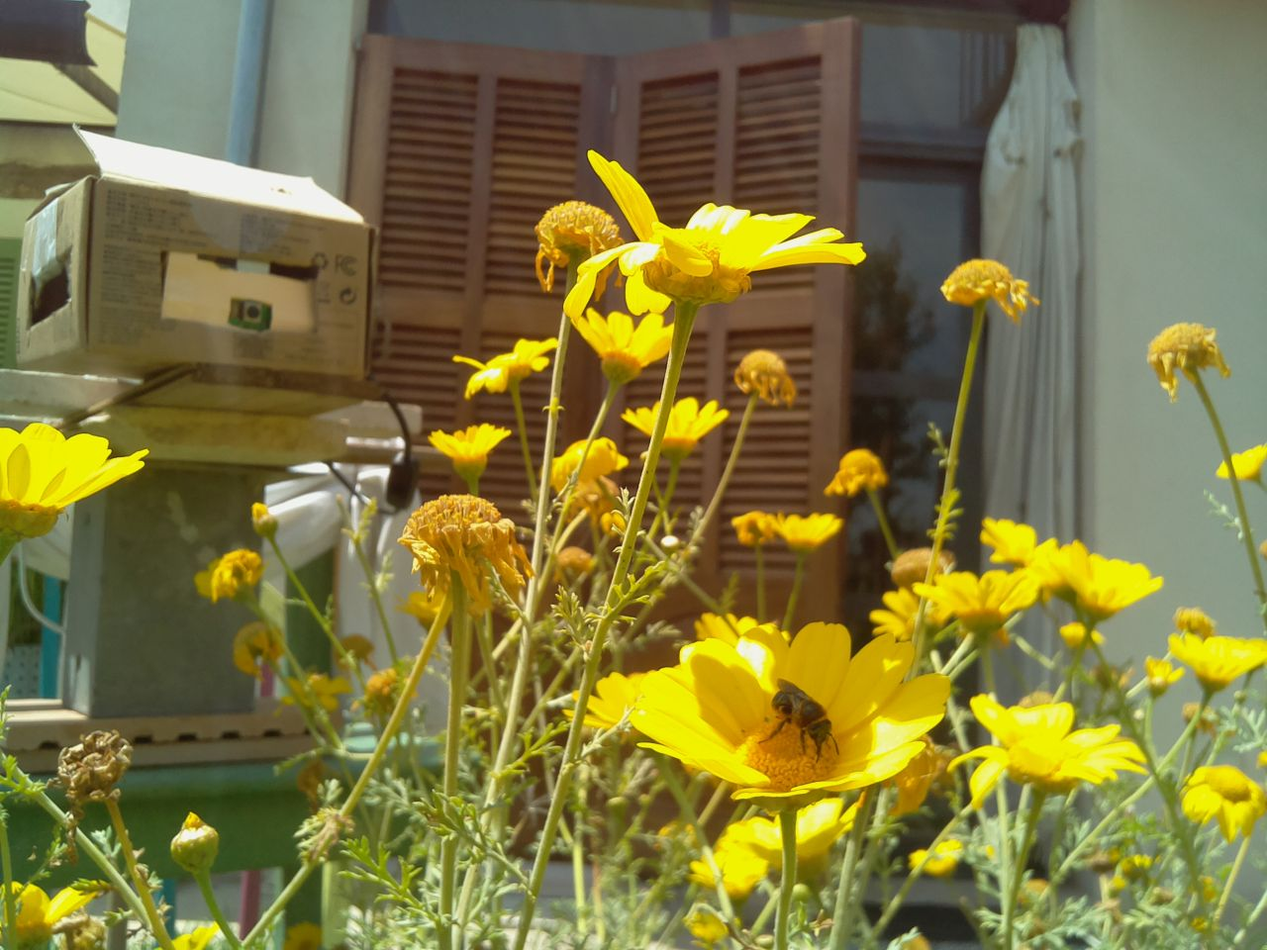Eucera: (755, 678, 857, 776)
